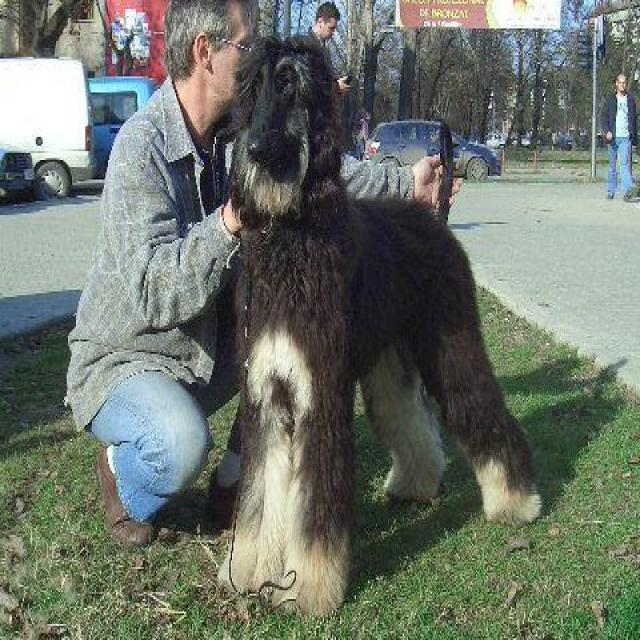afghan_hound: (212, 30, 540, 619)
